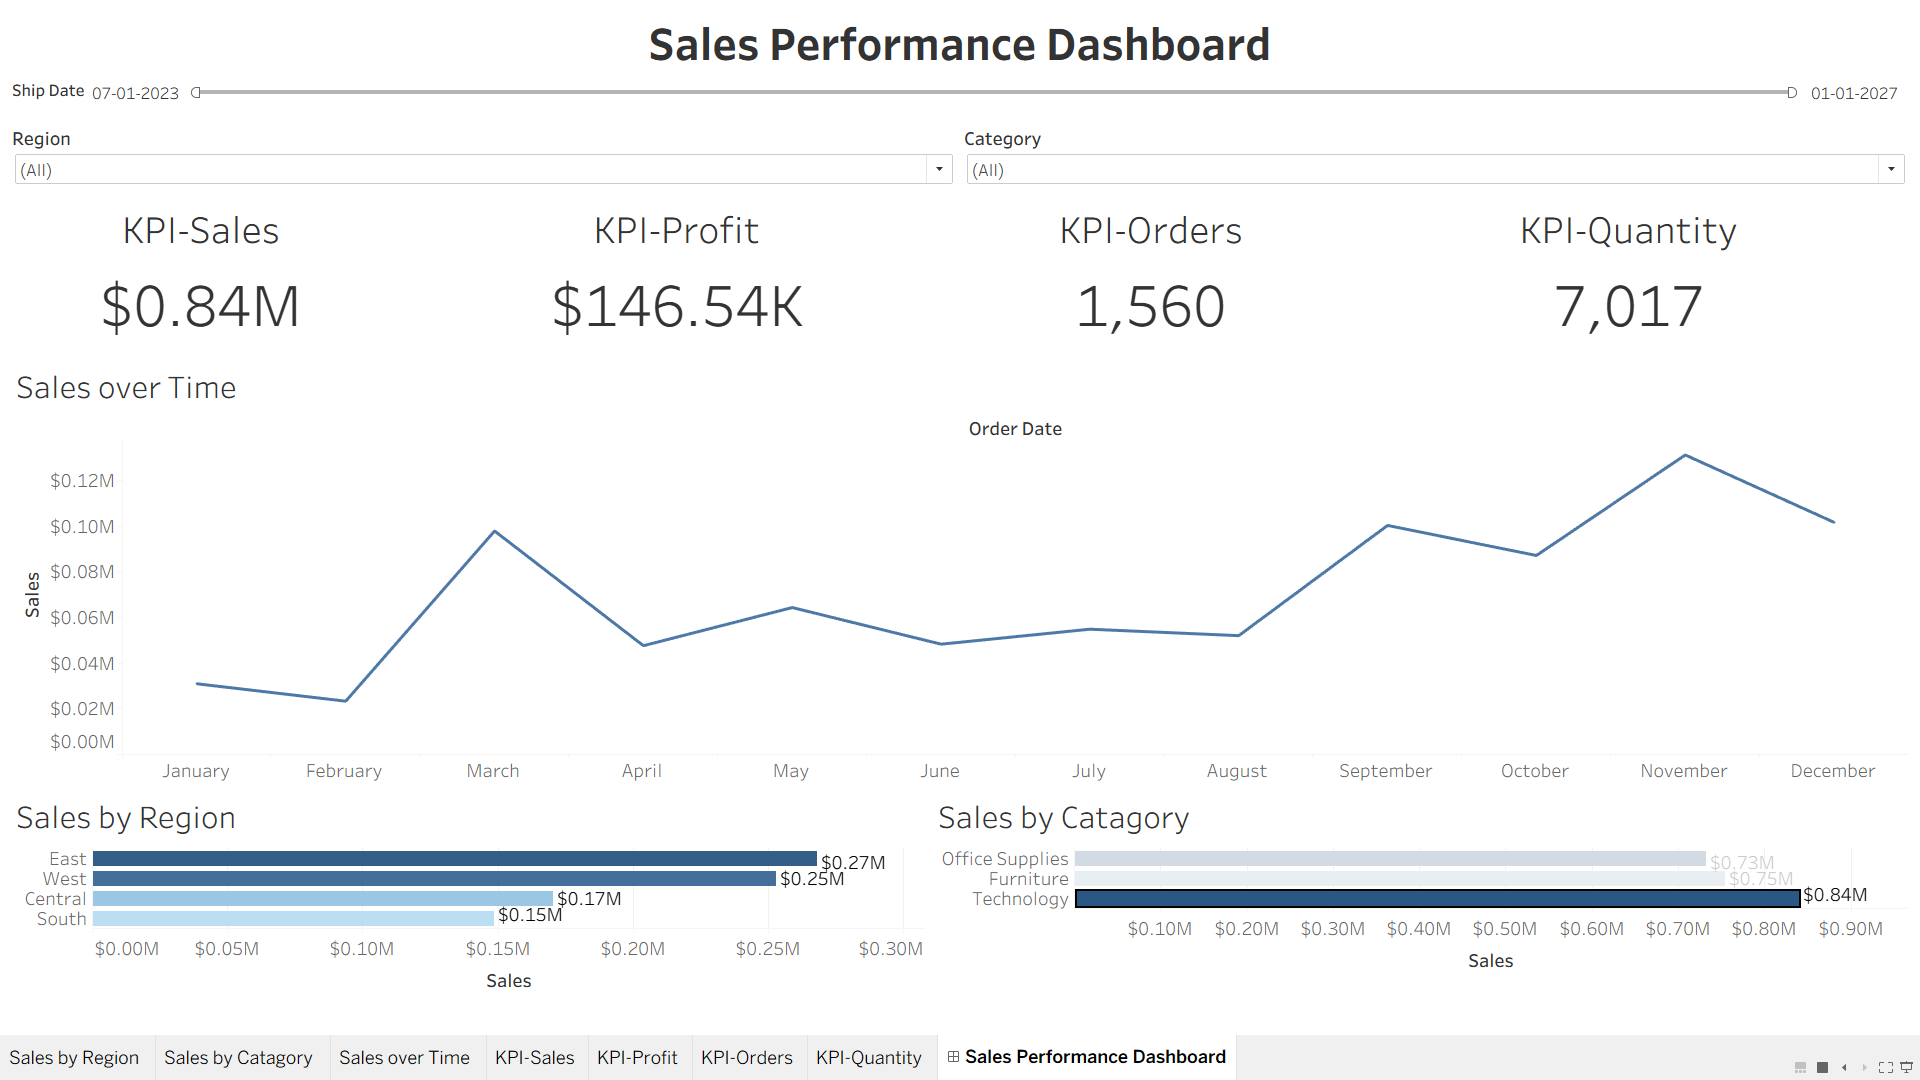

What the dashboard file says about the page in this screenshot:
{"tool":"tableau","page":{"name":"Sales Performance Dashboard","canvas":[1000,1000],"units":"permille","ordinal":0},"visuals":[{"type":"title","box":[5,8.9,989.9,75.6]},{"type":"filter","title":"Sales over Time","param":"[federated.0k5lg7b1i2wy1l1gqv2mb1i7kvae].[none:Ship Date:qk]","box":[5,84.5,989.9,42.5]},{"type":"filter","title":"Sales by Region","param":"[federated.0k5lg7b1i2wy1l1gqv2mb1i7kvae].[none:Region:nk]","box":[5,126.7,495,72.2]},{"type":"filter","title":"Sales by Catagory","param":"[federated.0k5lg7b1i2wy1l1gqv2mb1i7kvae].[none:Category:nk]","box":[500,126.7,495,72.2]},{"type":"worksheet","title":"KPI-Sales","mark":"Automatic","box":[5,198.9,247.5,153.3]},{"type":"worksheet","title":"KPI-Profit","mark":"Automatic","box":[252.5,198.9,247.5,153.3]},{"type":"worksheet","title":"KPI-Orders","mark":"Automatic","box":[500,198.9,247.5,153.3]},{"type":"worksheet","title":"KPI-Quantity","mark":"Automatic","box":[747.5,198.9,247.5,153.3]},{"type":"worksheet","title":"Sales over Time","mark":"Line","rows":["Sales"],"cols":["Order Date"],"box":[5,352,989.9,410.2]},{"type":"worksheet","title":"Sales by Region","mark":"Bar","rows":["Region"],"cols":["Sales"],"box":[5,762.2,476.1,228.9]},{"type":"worksheet","title":"Sales by Catagory","mark":"Automatic","rows":["Category"],"cols":["Sales"],"box":[481.1,762.2,513.9,228.9]}]}

Visuals, with their boxes on the dashboard's canvas, which has no fixed pixel size, in thousandths of its width and height (x1, y1, x2, y2). These are canvas units, not pixel positions in the 1920x1080 screenshot, which may show the page scaled, cropped or inside an application window:
title: (5, 9, 995, 84)
"Sales over Time" filter: (5, 84, 995, 127)
"Sales by Region" filter: (5, 127, 500, 199)
"Sales by Catagory" filter: (500, 127, 995, 199)
"KPI-Sales" worksheet: (5, 199, 252, 352)
"KPI-Profit" worksheet: (252, 199, 500, 352)
"KPI-Orders" worksheet: (500, 199, 748, 352)
"KPI-Quantity" worksheet: (748, 199, 995, 352)
"Sales over Time" worksheet (Line marks): (5, 352, 995, 762)
"Sales by Region" worksheet (Bar marks): (5, 762, 481, 991)
"Sales by Catagory" worksheet: (481, 762, 995, 991)
